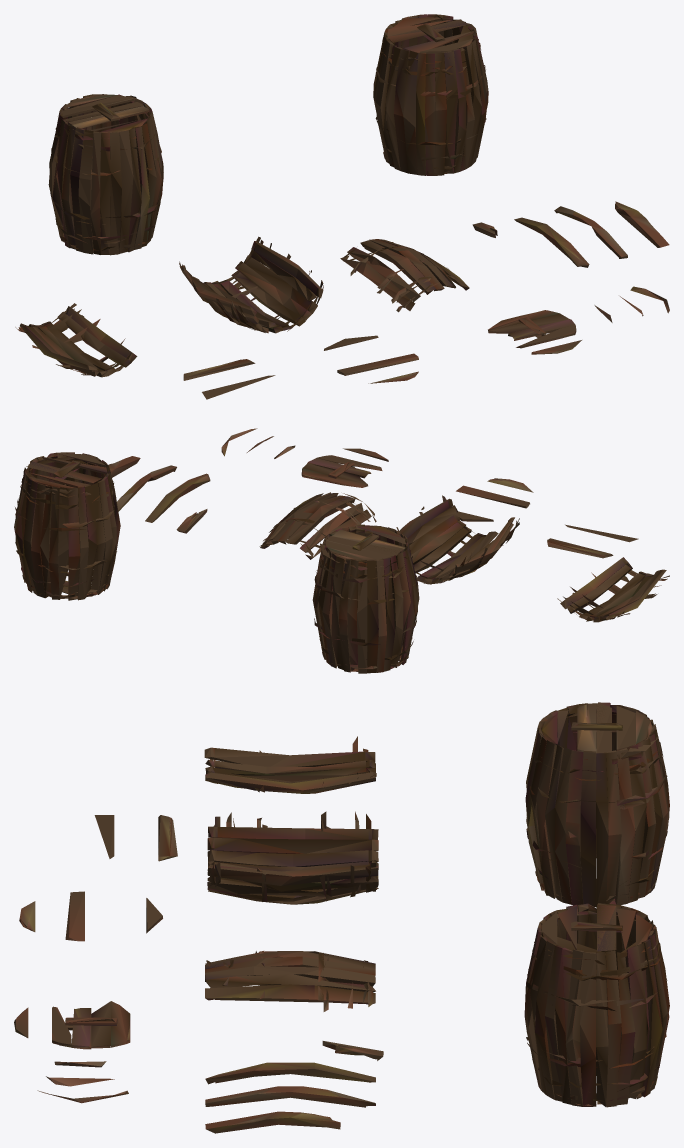
File: wooden_barrels_01.glb
The picture shows the model from 3 angles, top to bottom: view 1: azimuth 30°, elevation 25°; view 2: azimuth 150°, elevation 25°; view 3: azimuth 270°, elevation 25°; orthographic projection. The views are drawn at different scales.
Visible parts, largest first — view 1: wooden_barrels_01_barrel01; view 2: wooden_barrels_01_barrel01; view 3: wooden_barrels_01_barrel01.
Boxes of the visible parts, x1,y1,x2,y2 form: wooden_barrels_01_barrel01: (15,14,669,399); wooden_barrels_01_barrel01: (14,428,669,673); wooden_barrels_01_barrel01: (14,702,669,1133).
Size of the model in its own units: 0.62 by 0.13 by 0.4672.
